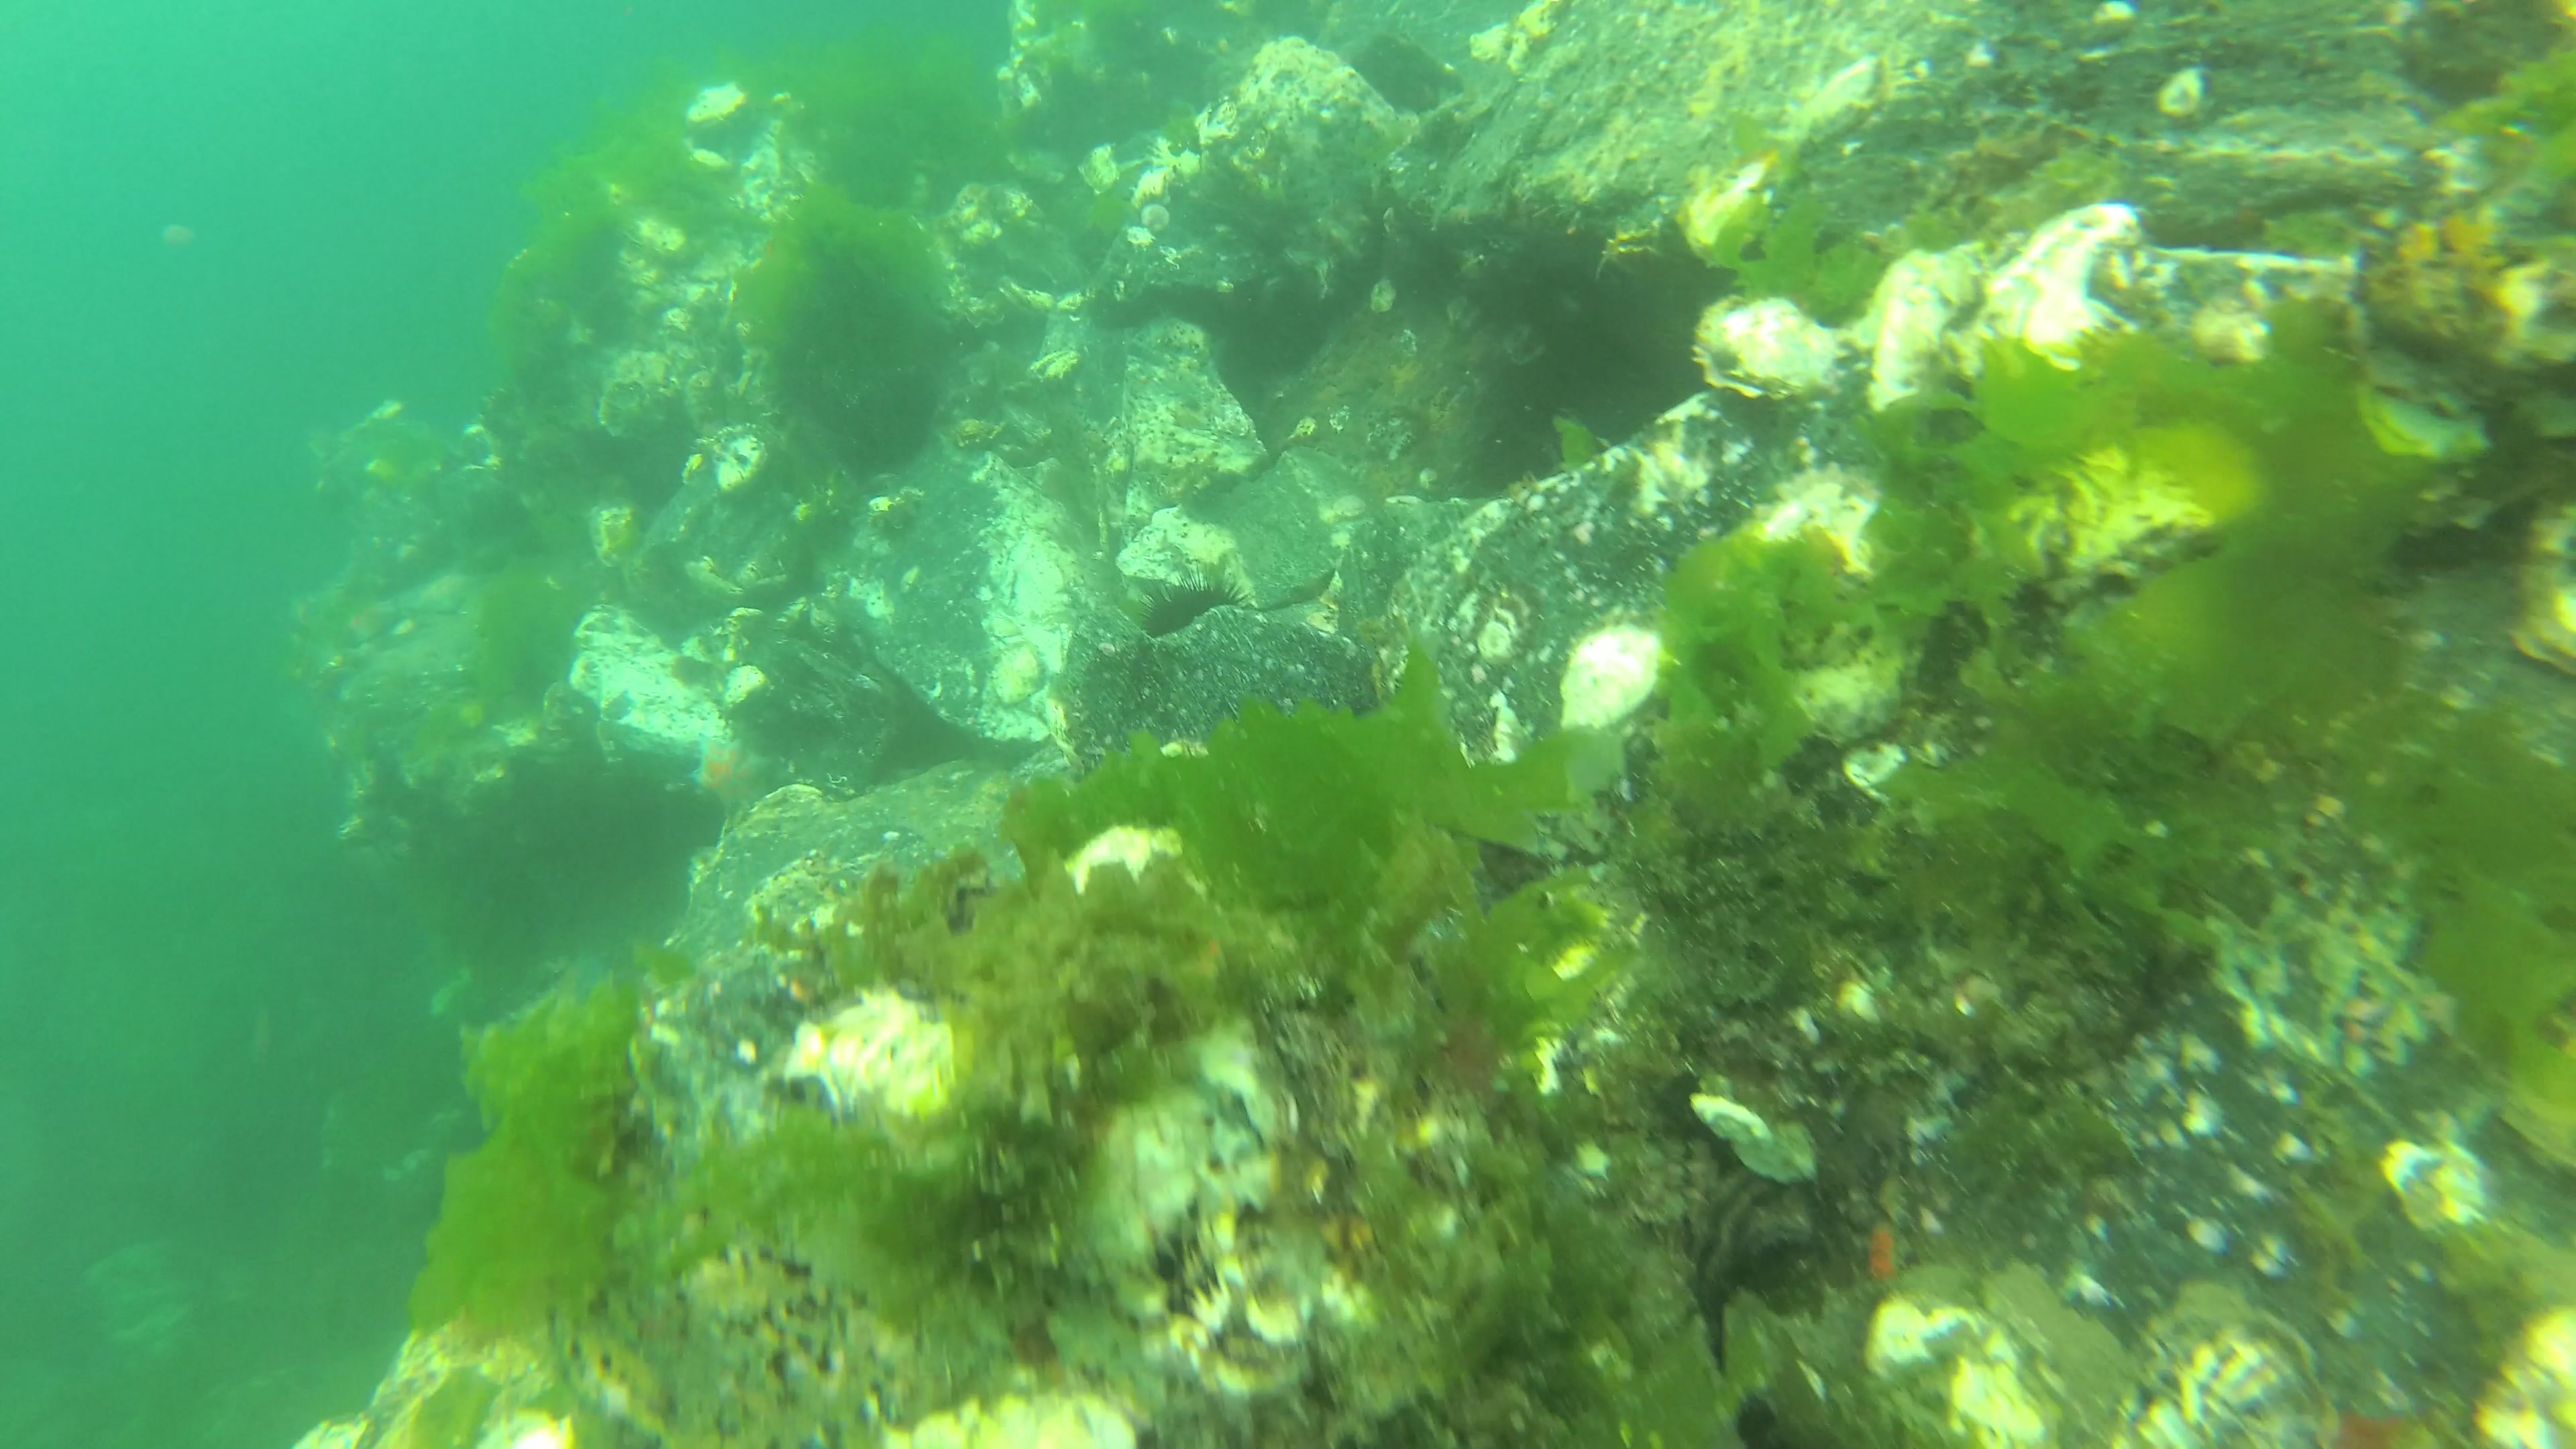echinus: (1476, 405, 1580, 495), (1139, 571, 1238, 635)
starfish: (686, 727, 766, 809), (1865, 1221, 1905, 1286)
